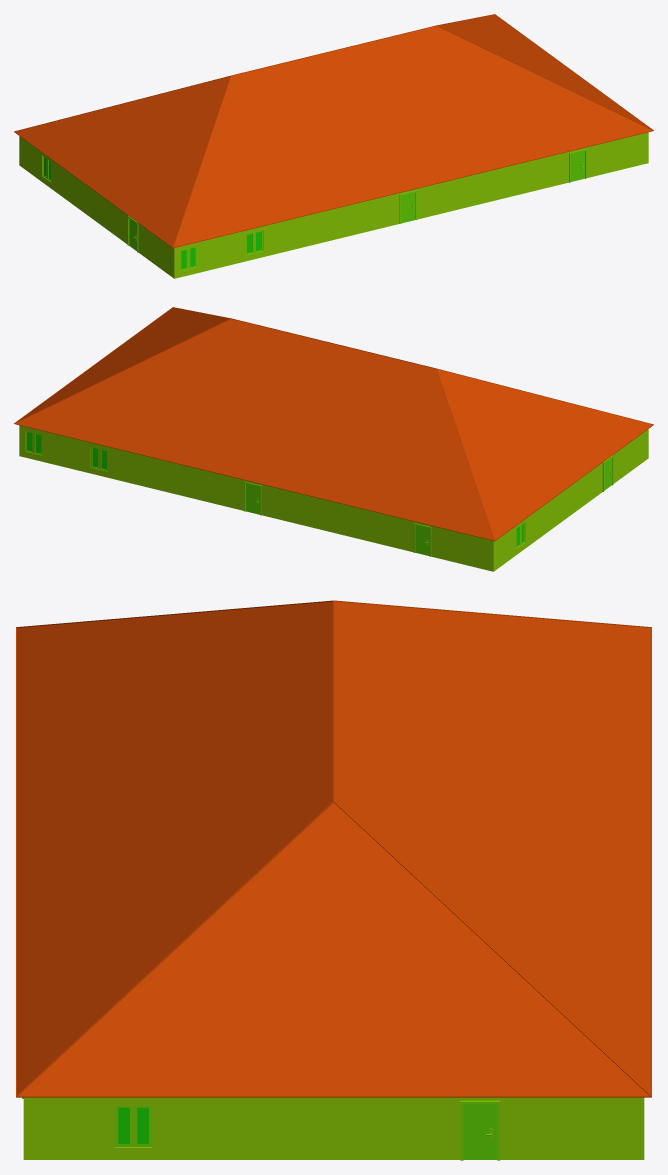
Rendered from GeneratedMeshBuilding 0.fbx.
3 renders of one model, top to bottom at view 1: azimuth 30°, elevation 25°; view 2: azimuth 150°, elevation 25°; view 3: azimuth 270°, elevation 25°, orthographic. The views are drawn at different scales.
Visible parts, largest first — view 1: GeneratedMesh_TMP_; view 2: GeneratedMesh_TMP_; view 3: GeneratedMesh_TMP_.
Boxes of the visible parts, x1,y1,x2,y2 form: GeneratedMesh_TMP_: (14, 14, 653, 278); GeneratedMesh_TMP_: (14, 307, 653, 571); GeneratedMesh_TMP_: (16, 600, 651, 1160).
Size of the model in its own units: 3054 by 689 by 1749.
Materials: 2 (2 with a texture image).
